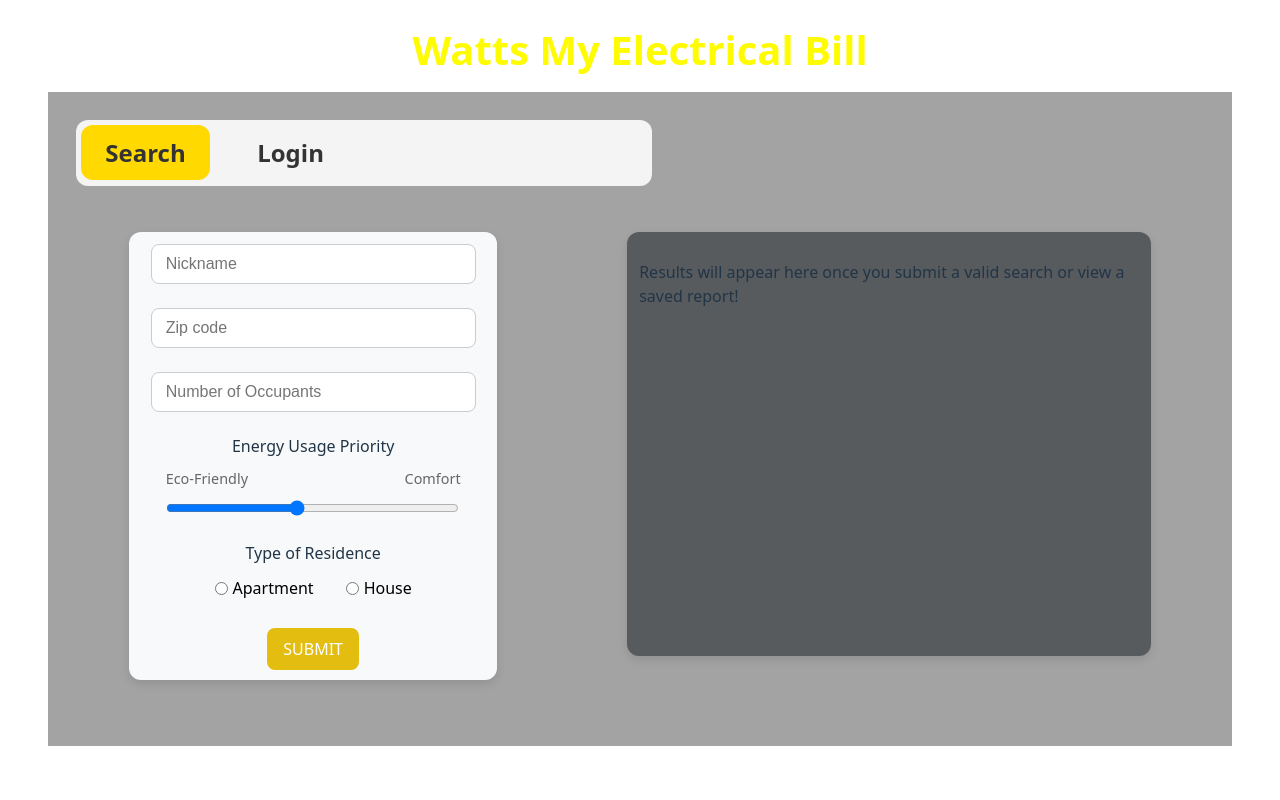
HomeContainer and ResultsContainer › navigates to the login page when clicking the Login link
The width and height of the screenshot is (1280, 800).
Click the link "Login" at (291, 153), box [257, 136, 324, 169]
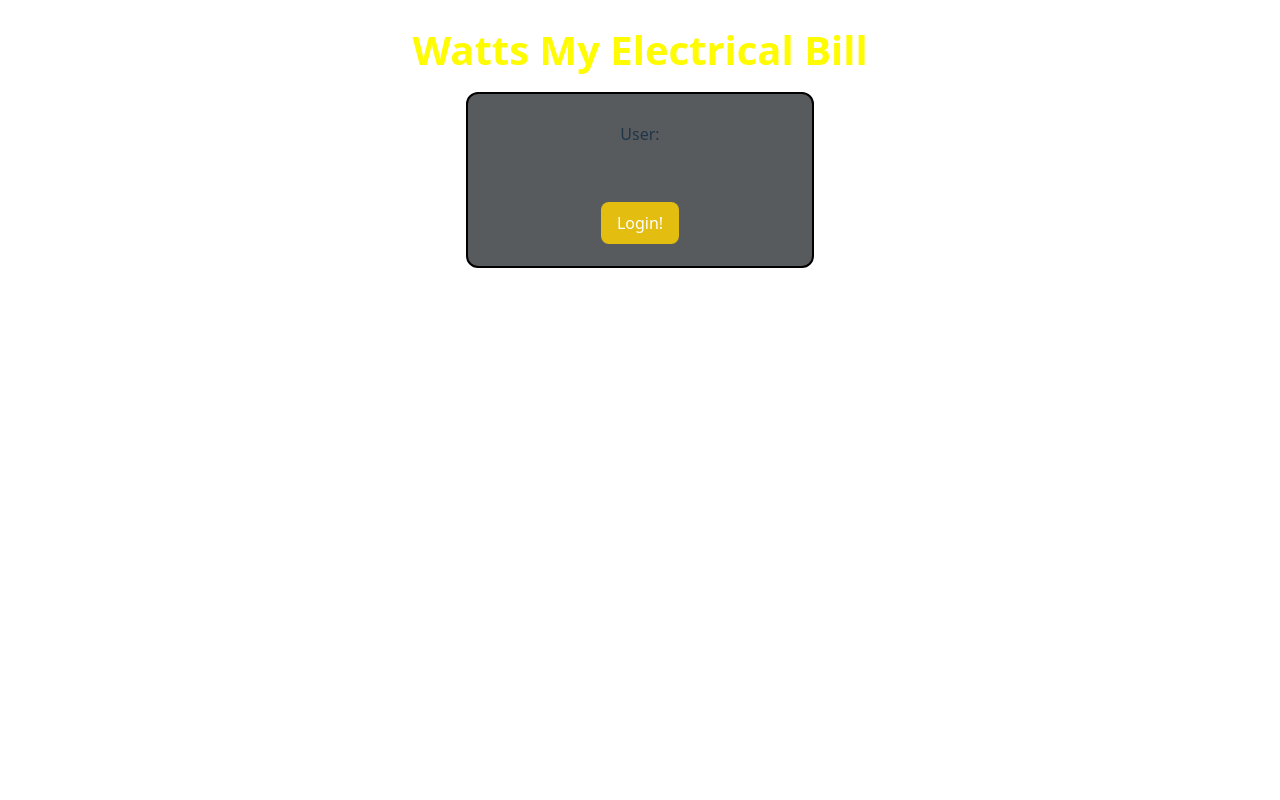
Check: the element with class "loginContainer" is shown, box [466, 92, 814, 268]
Check: the text "User:" is shown, box [620, 122, 660, 146]
